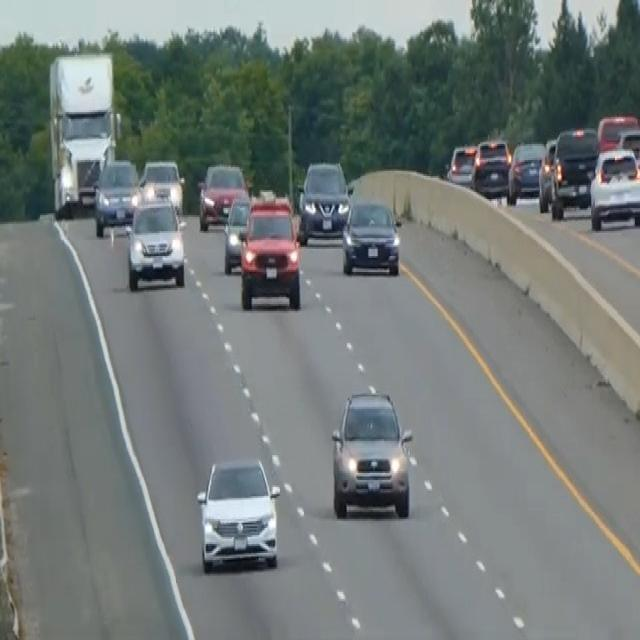car: (195, 453, 281, 572), (238, 196, 301, 310), (124, 190, 185, 290), (296, 158, 352, 244), (341, 198, 401, 276), (550, 124, 598, 217), (589, 144, 639, 229), (93, 156, 140, 234), (197, 160, 248, 229), (138, 157, 184, 215), (472, 135, 511, 199), (507, 138, 546, 202), (222, 192, 251, 274), (596, 110, 639, 151), (537, 137, 557, 210), (447, 142, 477, 187), (617, 126, 639, 178)
jeep: (329, 387, 414, 521)
lorry: (47, 50, 121, 217)
